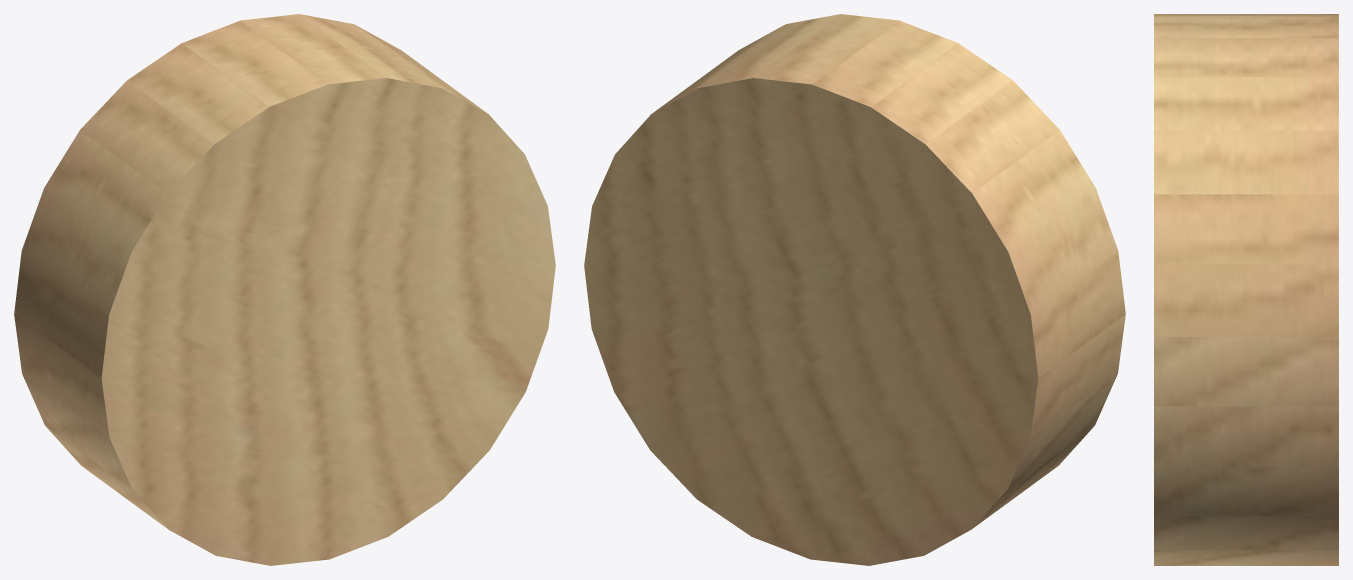
Rendered from original-2.obj.
3 views of the same model, side by side, from view 1: azimuth 30°, elevation 25°; view 2: azimuth 150°, elevation 25°; view 3: azimuth 270°, elevation 25° (orthographic). The views are drawn at different scales.
Visible parts, largest first — view 1: Group2/mesh4/mesh4-geometry#mesh4-geometry; view 2: Group2/mesh4/mesh4-geometry#mesh4-geometry; view 3: Group2/mesh4/mesh4-geometry#mesh4-geometry.
Boxes of the visible parts, x1=… form: Group2/mesh4/mesh4-geometry#mesh4-geometry: x1=14, y1=14, x2=555, y2=565; Group2/mesh4/mesh4-geometry#mesh4-geometry: x1=584, y1=14, x2=1125, y2=565; Group2/mesh4/mesh4-geometry#mesh4-geometry: x1=1154, y1=14, x2=1338, y2=565.
Bounding box in the file's own units: 0.0371 × 0.0371 × 0.0124.
